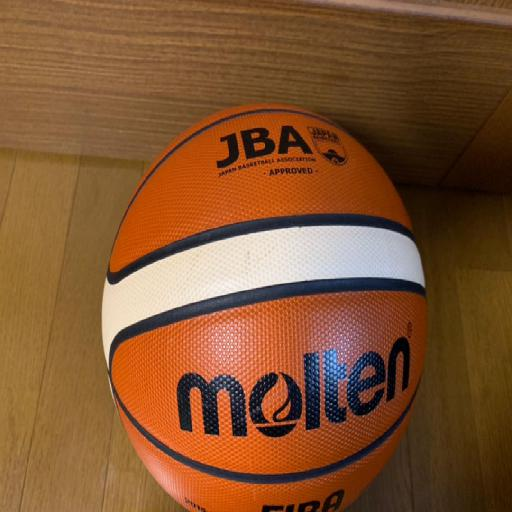ball: (103, 102, 426, 512)
